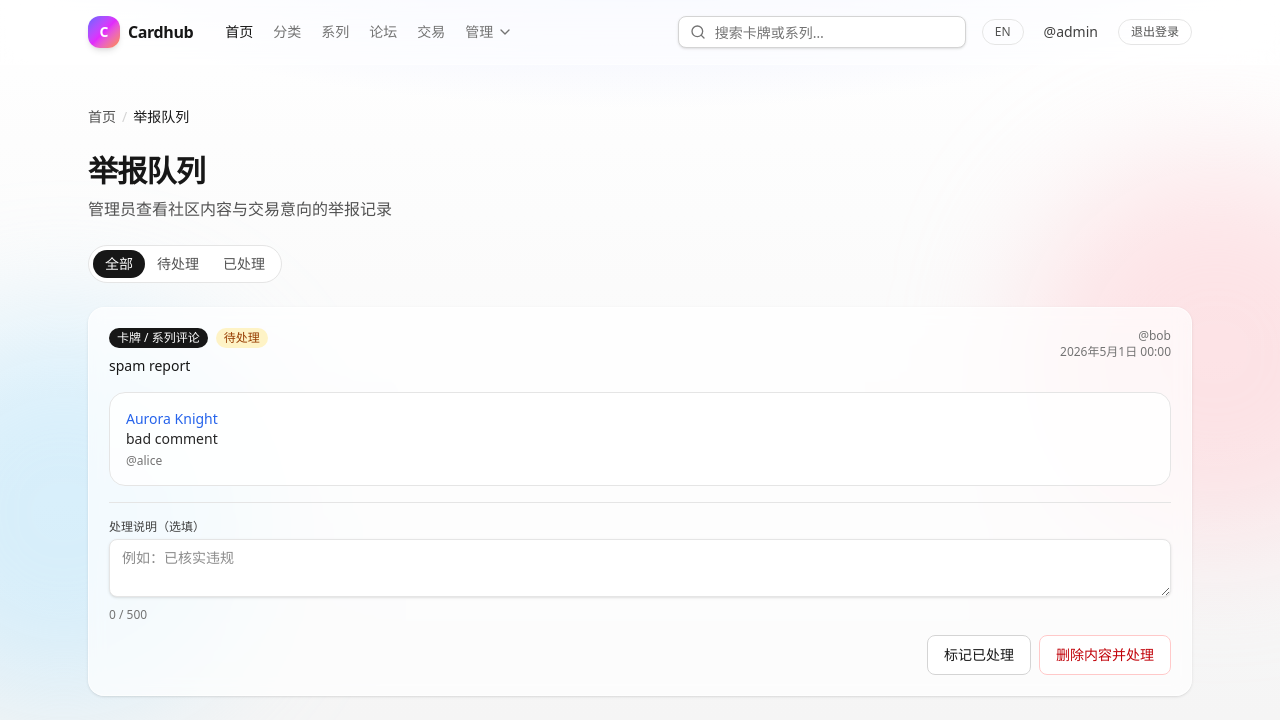
Test: ReportsListPage resolution controls › shows generic resolve failures and keeps the resolution note
This screenshot has width=1280, height=720.
Type "违规截图已保存" into the text box labelled "处理说明（选填）" at (640, 568), box [109, 539, 1171, 597]
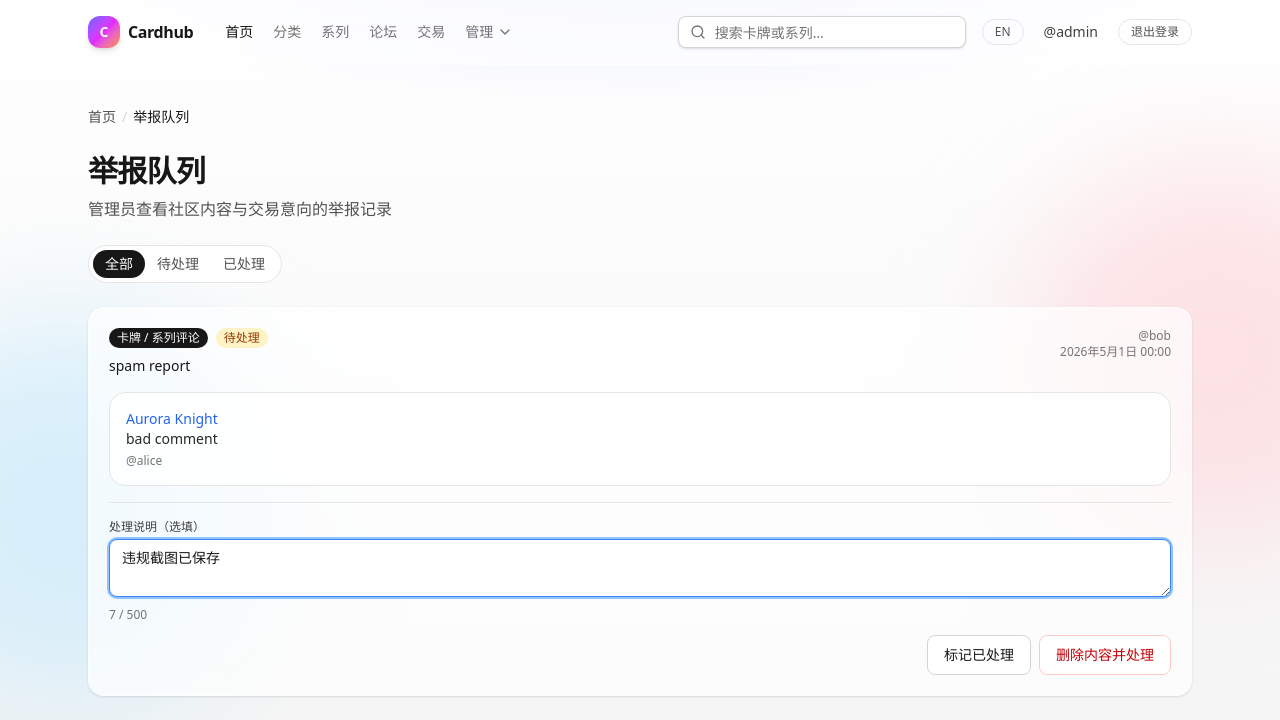
Click the button "标记已处理" at (979, 655), box [927, 635, 1031, 675]
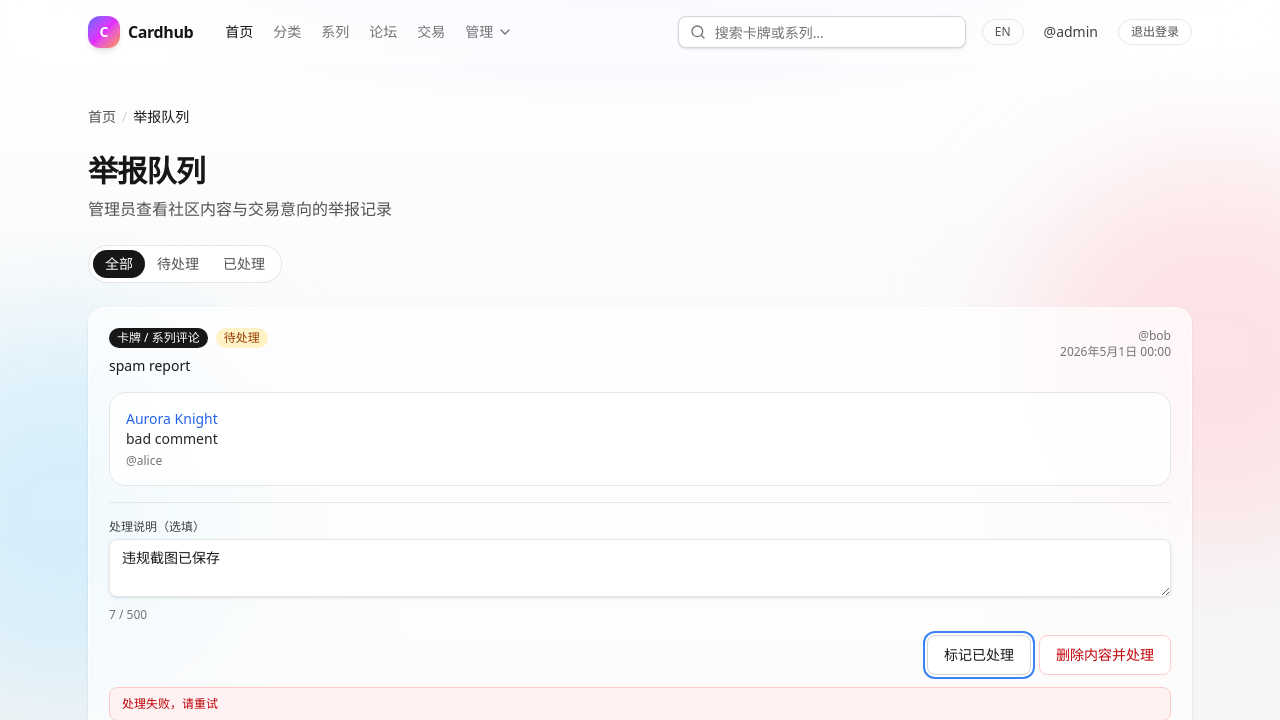
Check: the message reads "处理失败，请重试", box [122, 695, 218, 712]
